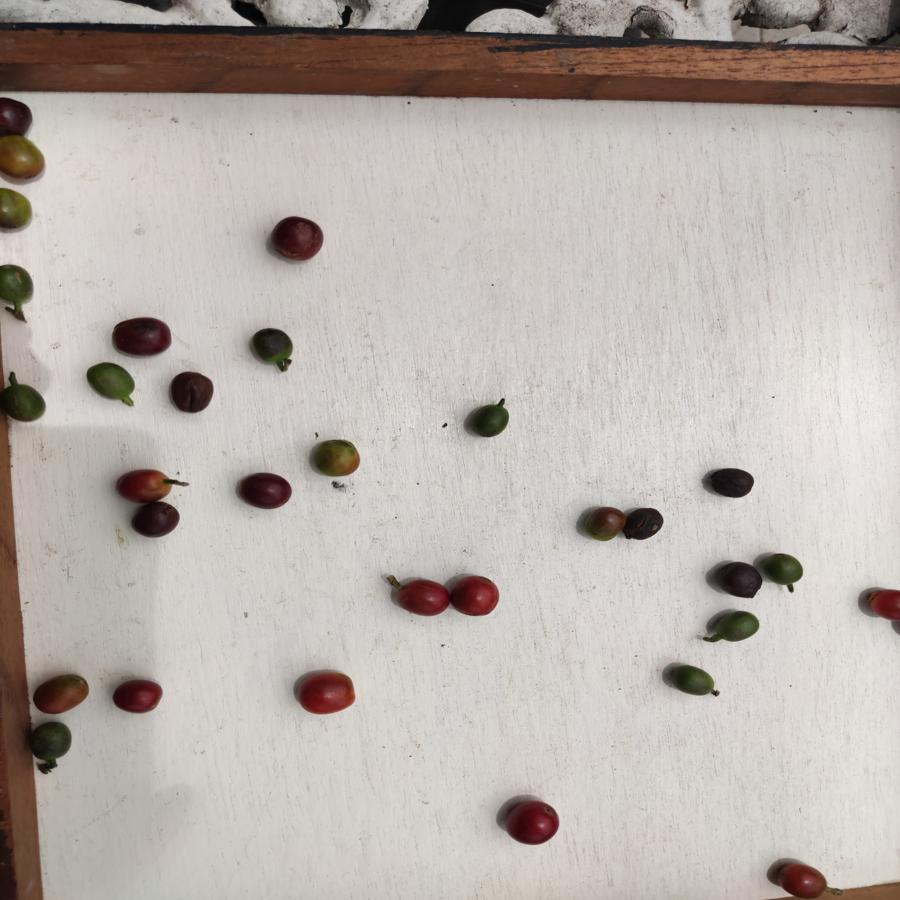Inmaduro: (85, 358, 135, 407), (24, 719, 76, 759), (667, 661, 719, 700), (250, 328, 293, 373), (712, 610, 763, 647), (1, 266, 40, 311), (470, 403, 511, 440), (766, 549, 806, 585)
Maduro: (296, 670, 357, 719), (394, 572, 450, 618), (447, 573, 500, 619), (774, 862, 827, 900), (864, 583, 900, 626)
Pinton: (35, 672, 89, 719), (309, 435, 363, 479), (114, 467, 174, 504), (1, 135, 50, 180), (585, 503, 625, 548), (1, 184, 35, 235)
Sobremaduro: (504, 799, 564, 846), (270, 211, 323, 262), (109, 316, 173, 355), (233, 470, 294, 510), (703, 463, 758, 504), (109, 676, 165, 715), (168, 370, 213, 418), (127, 502, 183, 538), (714, 561, 764, 601), (625, 506, 664, 541)
